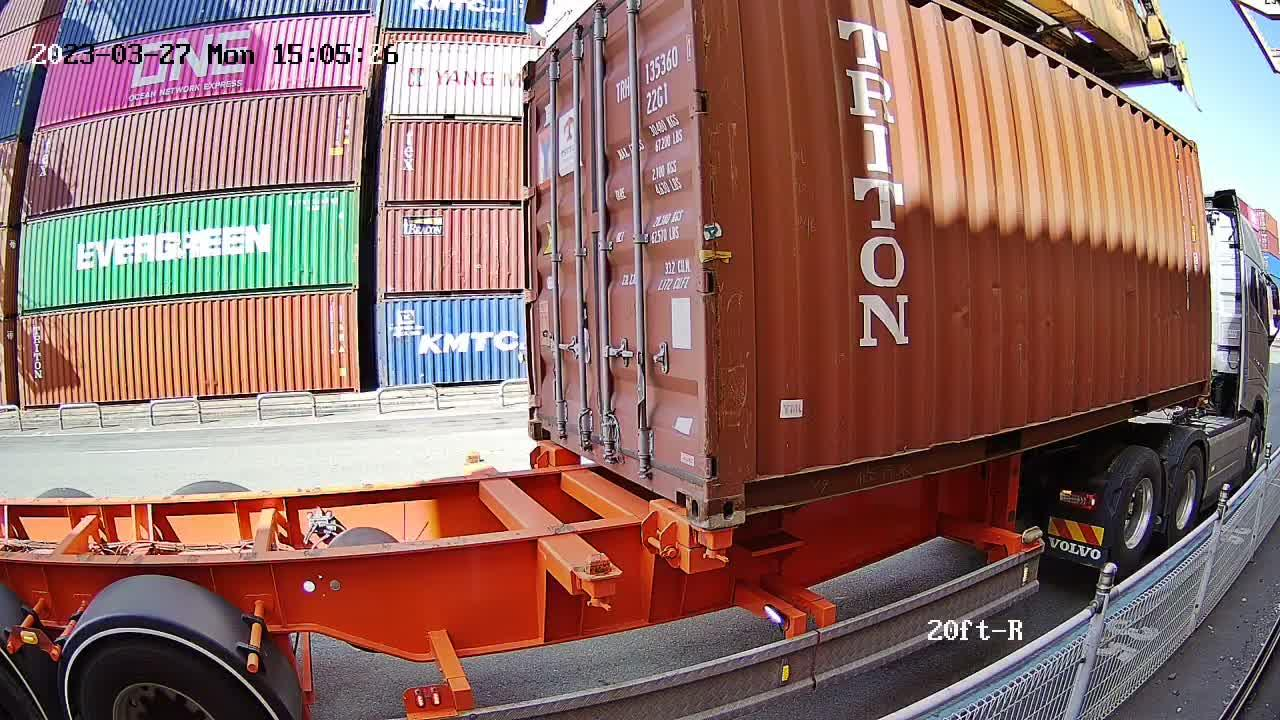Chassis: (535, 441, 739, 548)
Cone: (694, 529, 736, 564)
Hole_L: (705, 457, 771, 528), (528, 398, 559, 444)
Hole_R: (666, 451, 705, 527)
Tire: (1108, 452, 1165, 567), (1167, 447, 1207, 543)
